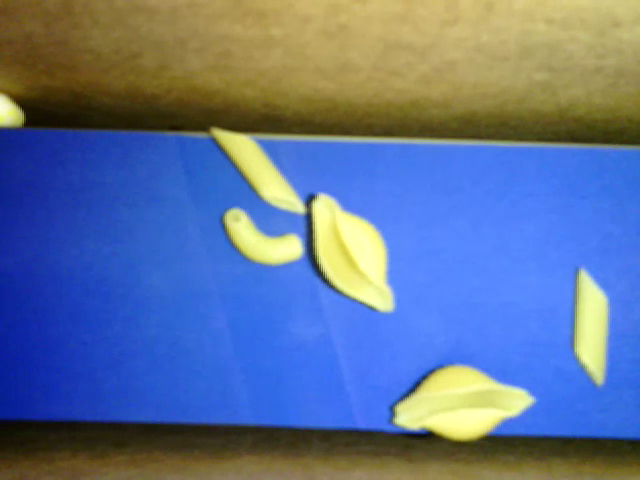elbow: (222, 207, 301, 265)
penne: (210, 126, 310, 215), (573, 267, 609, 386)
shell: (391, 363, 536, 443), (310, 191, 396, 313)
